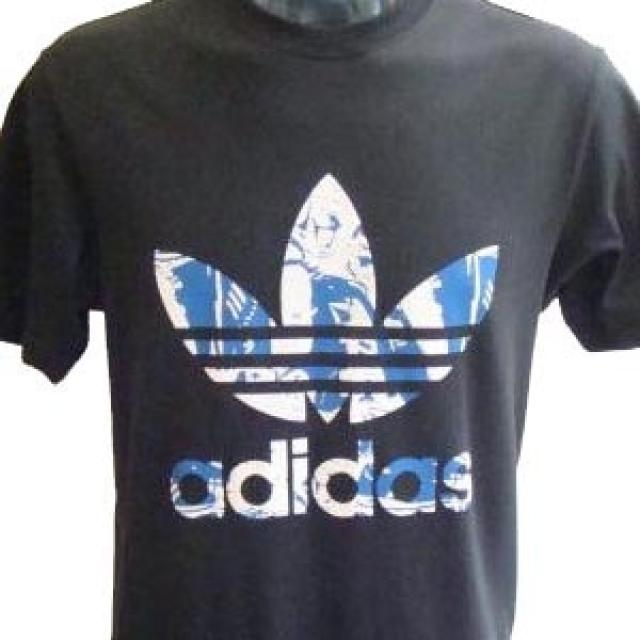adidas: (140, 167, 515, 530)
